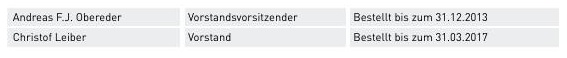table: (0, 0, 567, 58)
